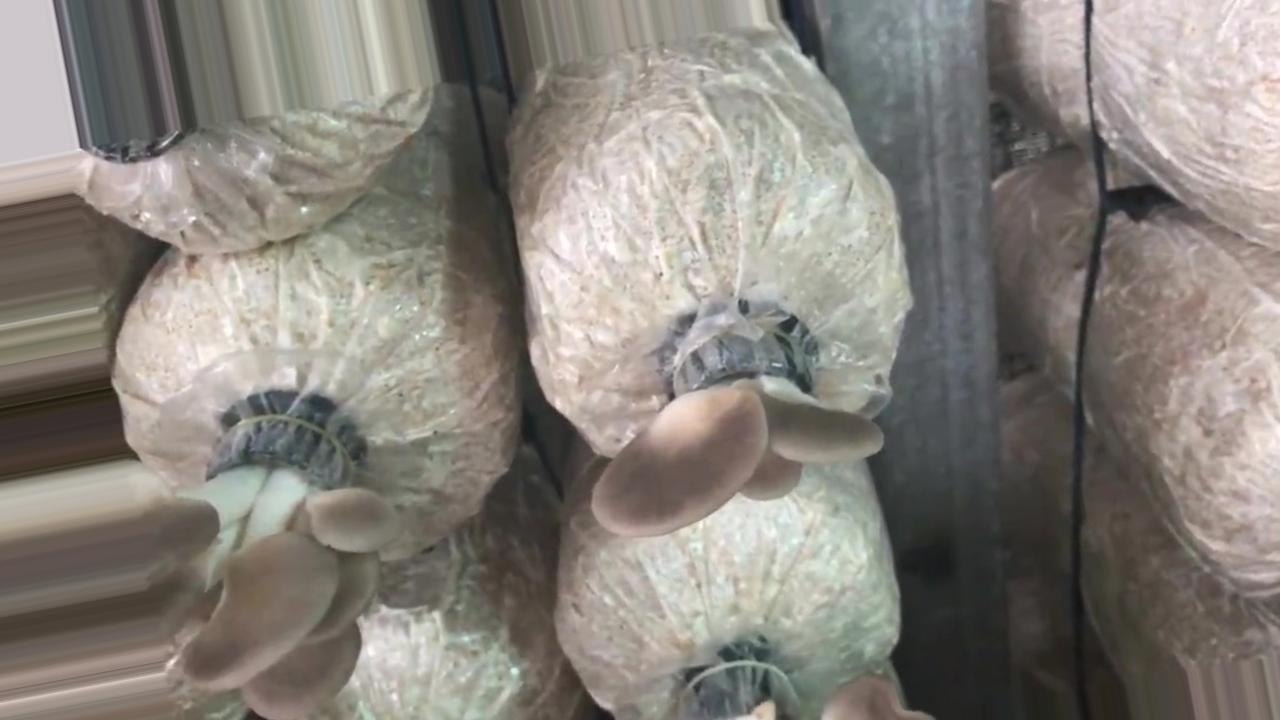nam: (1, 400, 402, 712), (591, 320, 885, 542)
